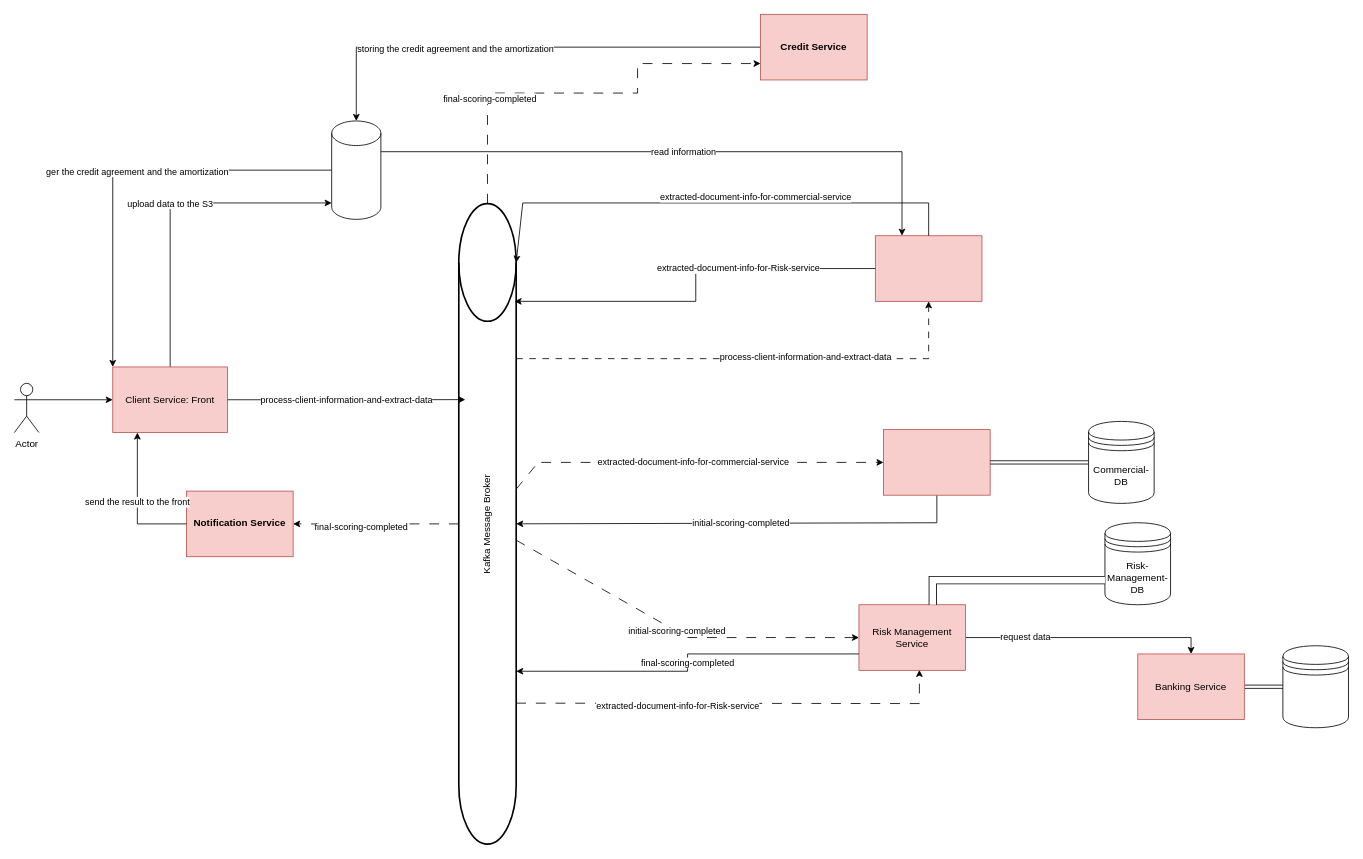
Some shapes in this 1363 by 859 pixel diagram are drawn without their labels. The shapes that lost their labels are listed below. From the top down, each one's centre as x and y in pixels, then its label:
At point (356, 169): "S3 bucket for the form info and the images".
At point (928, 268): "OCR Service".
At point (936, 462): "Commercial Service".
At point (1315, 686): "Banking-DB".
